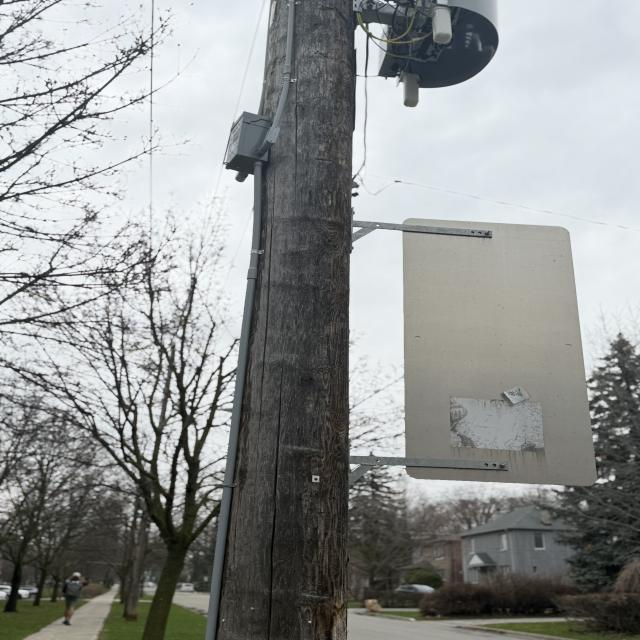Electrical Pole: (201, 0, 504, 640)
